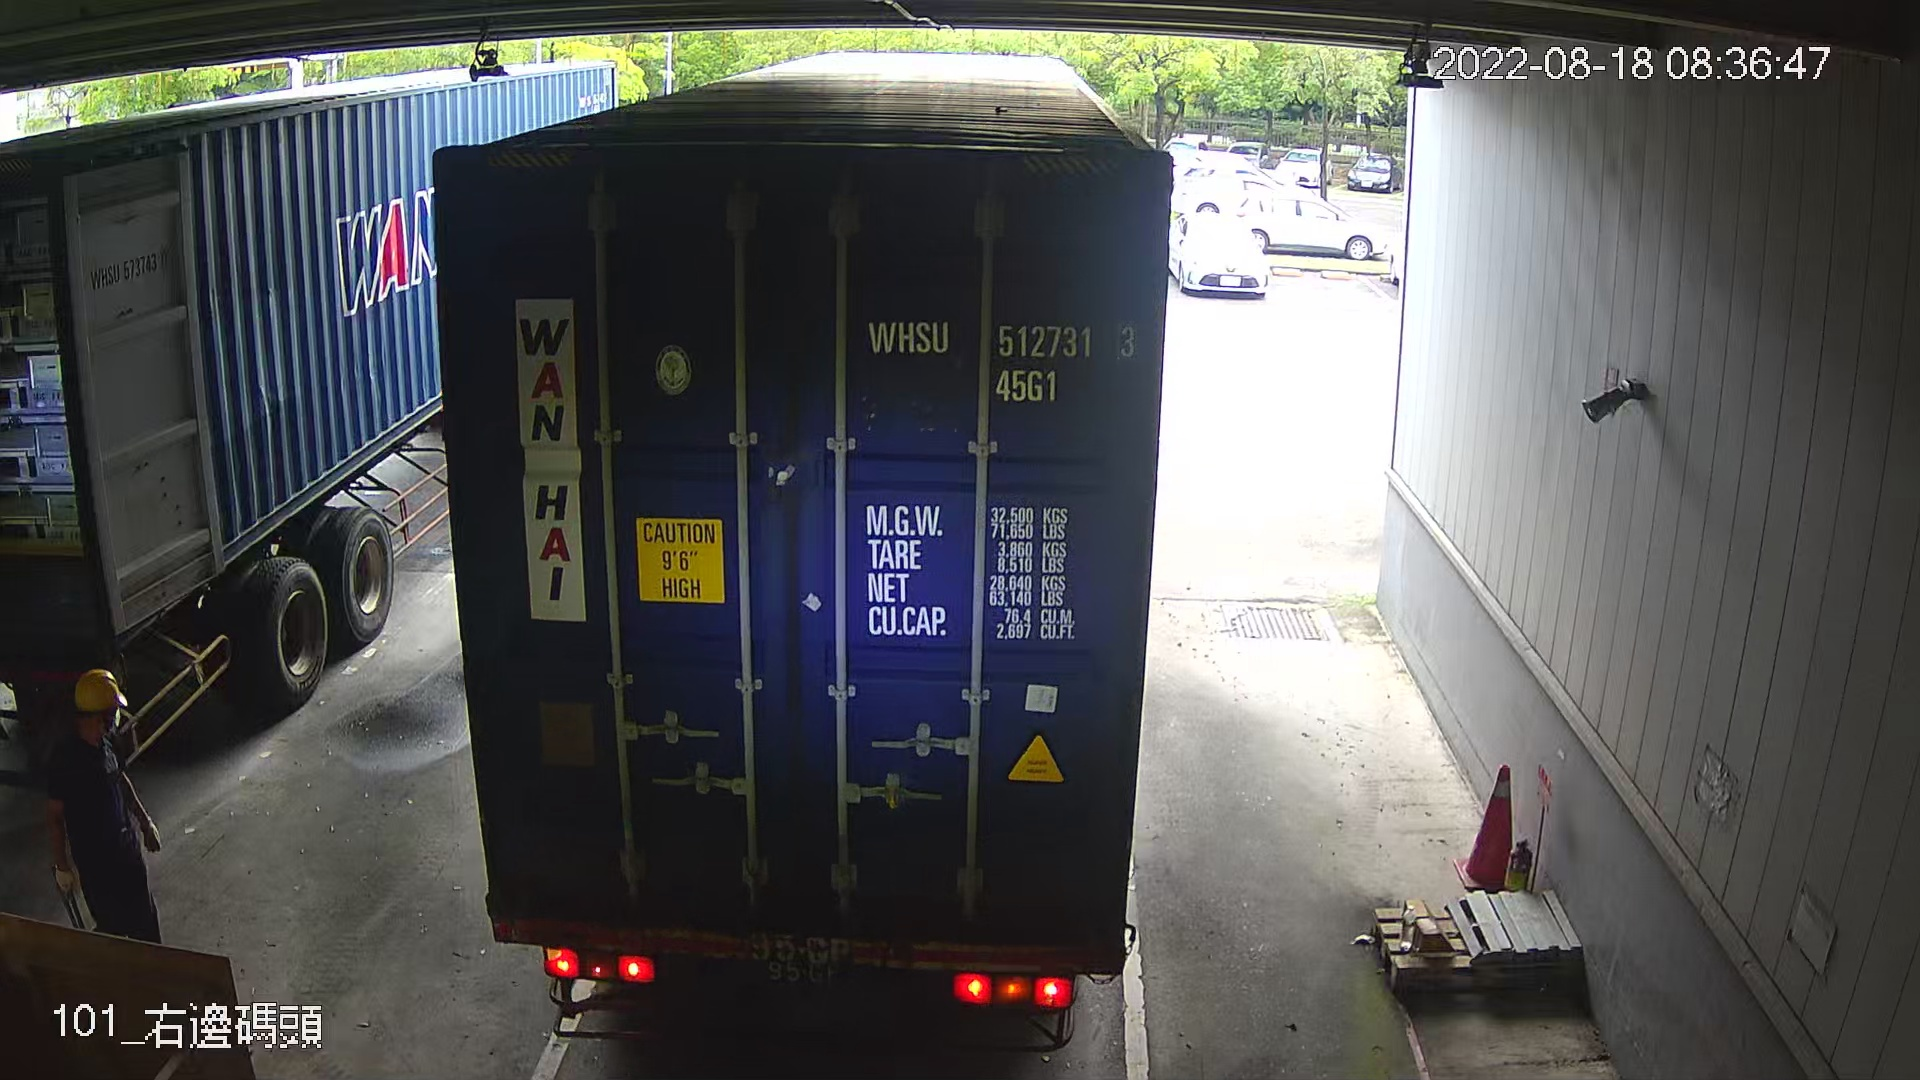container: (856, 295, 1151, 418)
